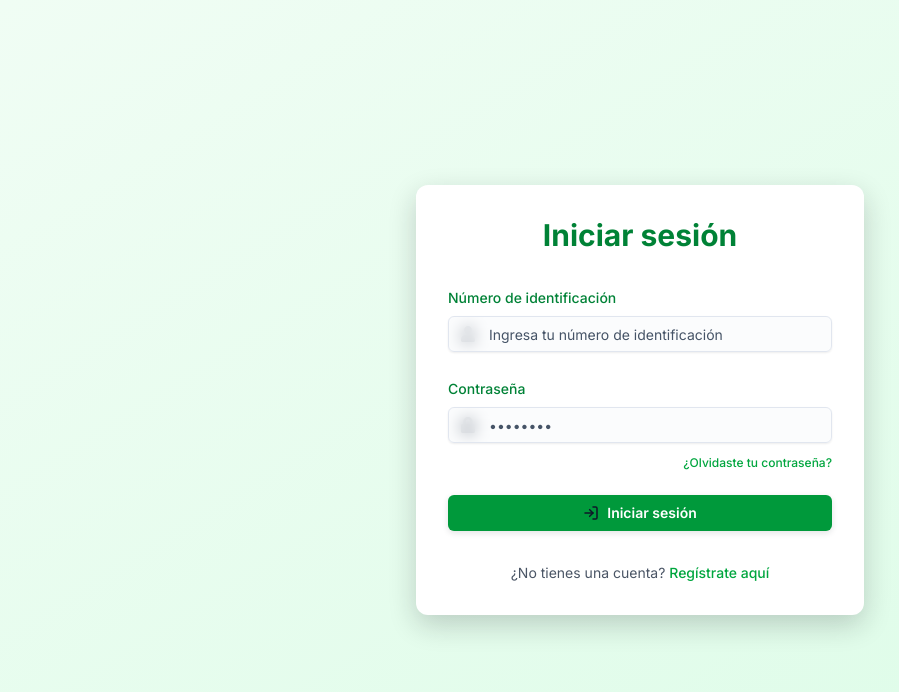
Test case: Login Page › shows error message on failed login (401)
Type "1234" into the field labelled "Número de identificación" at (640, 334), box [448,316,832,352]
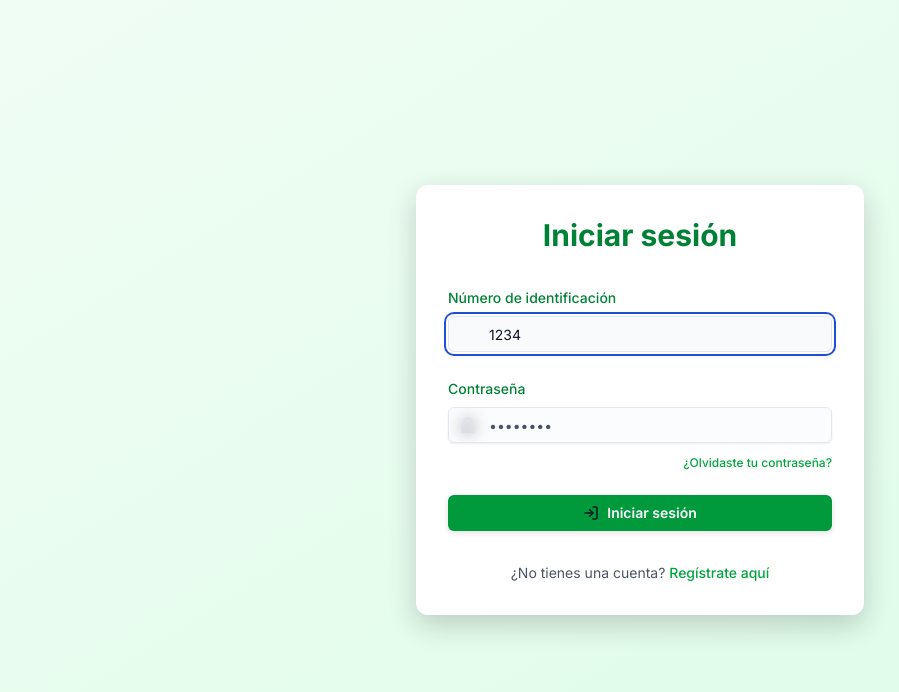
Type "wrongpassword" into the password field labelled "Contraseña" at (640, 425), box [448,407,832,443]
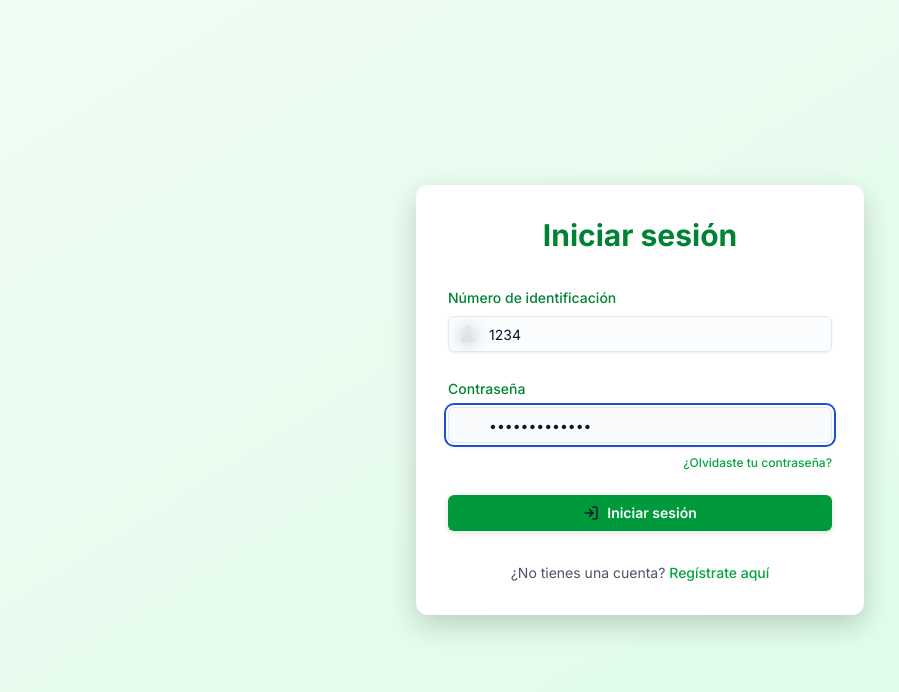
Click the button "Iniciar sesión" at (640, 513), box [448,495,832,531]
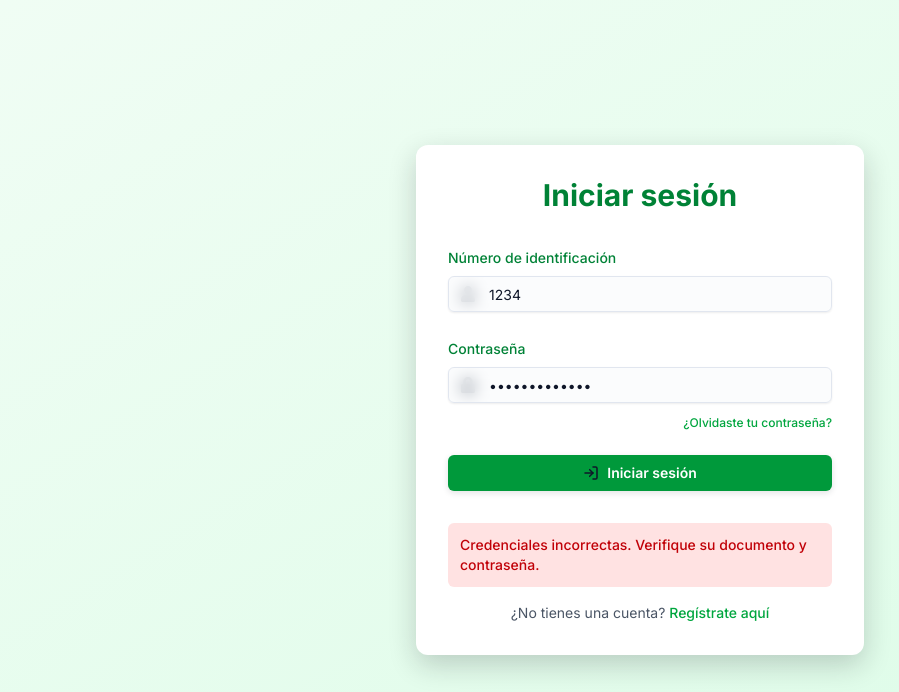
Now the text "Credenciales incorrectas" is shown, box [460,536,807,573]
